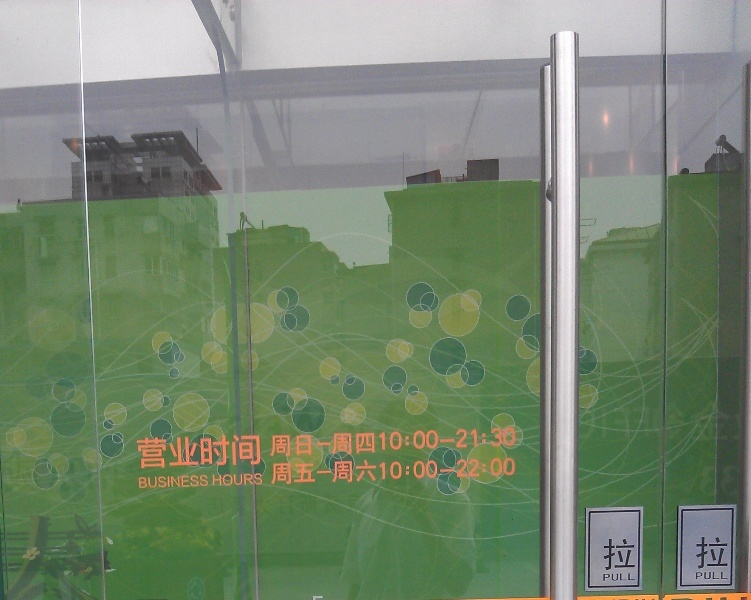text: (145, 432, 160, 471), (161, 432, 176, 471), (177, 432, 192, 471), (193, 432, 208, 471), (209, 432, 224, 471), (225, 432, 240, 471), (241, 432, 256, 471), (609, 539, 624, 572), (705, 536, 720, 568), (273, 430, 288, 459), (289, 430, 304, 459), (305, 430, 320, 459), (321, 430, 336, 459), (337, 430, 352, 459), (353, 430, 368, 459), (273, 459, 288, 487), (289, 459, 304, 487), (305, 459, 320, 487), (321, 459, 336, 487), (337, 459, 352, 487), (353, 459, 368, 487), (385, 426, 400, 452), (401, 426, 416, 452), (417, 426, 432, 452), (433, 426, 448, 452), (449, 426, 464, 452), (465, 426, 480, 452), (481, 426, 496, 452), (497, 426, 512, 452), (625, 539, 636, 572), (385, 456, 400, 480), (401, 456, 416, 480), (417, 456, 432, 480), (433, 456, 448, 480), (449, 456, 464, 480), (465, 456, 480, 480), (481, 456, 496, 480), (497, 456, 512, 480), (135, 432, 144, 471), (369, 430, 379, 459), (721, 536, 730, 568), (145, 473, 160, 492), (161, 473, 176, 492), (177, 473, 192, 492), (193, 473, 208, 492), (696, 536, 704, 568), (601, 539, 608, 572), (369, 459, 377, 487), (225, 473, 240, 487), (241, 473, 256, 487), (257, 432, 262, 471), (212, 473, 224, 487), (513, 426, 519, 452), (609, 572, 624, 582), (705, 571, 720, 581), (137, 473, 144, 492), (379, 456, 384, 480), (268, 430, 272, 459), (625, 572, 636, 582), (380, 426, 384, 452), (694, 571, 704, 581), (257, 473, 264, 487), (513, 456, 517, 480), (721, 571, 729, 581), (270, 459, 272, 487), (603, 572, 608, 582), (209, 473, 210, 492)
